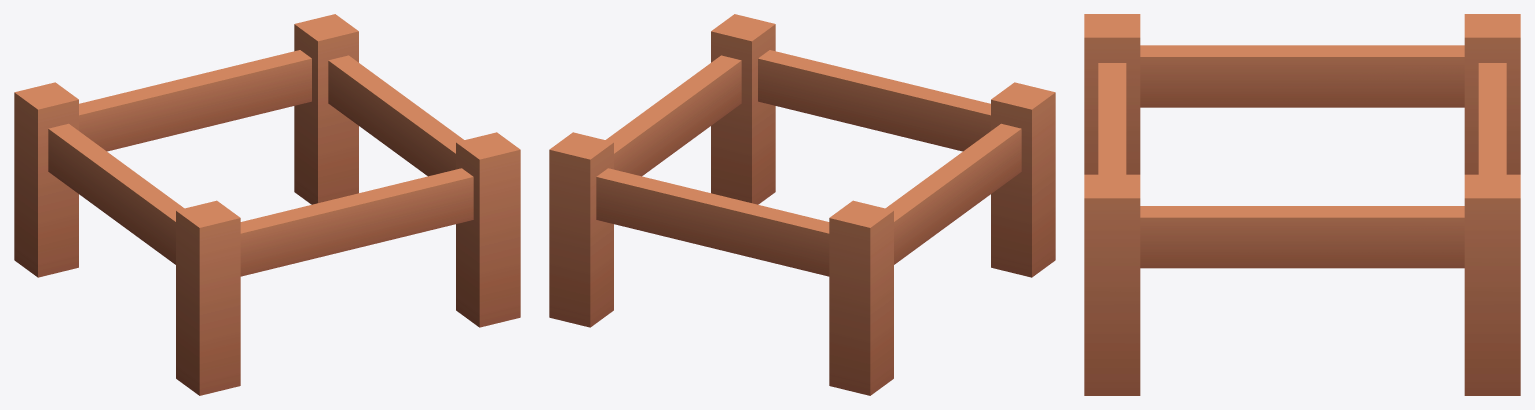
The model's file is kenney-tower-defense-wood-structure.glb.
3 renders of one model, left to right at view 1: azimuth 30°, elevation 25°; view 2: azimuth 150°, elevation 25°; view 3: azimuth 270°, elevation 25°, orthographic. The views are drawn at different scales.
Parts seen in each view (by area): view 1: wood-structure; view 2: wood-structure; view 3: wood-structure.
Part boxes in pixels (left/top/right/bottom): wood-structure: left=14, top=14, right=520, bottom=395; wood-structure: left=549, top=14, right=1055, bottom=395; wood-structure: left=1084, top=14, right=1520, bottom=395.
Size of the model in its own units: 1 by 0.5001 by 1.
Materials: 1 (1 with a texture image).
